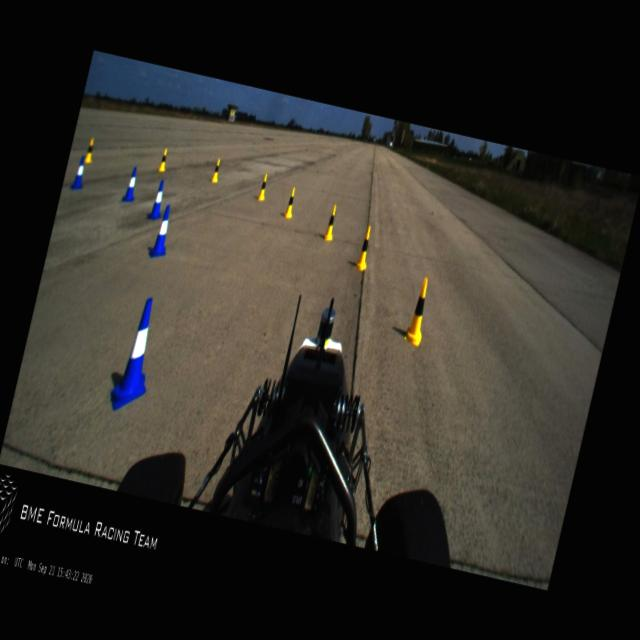blue_cone: (106, 294, 166, 416), (148, 202, 176, 260), (147, 180, 168, 222), (122, 166, 140, 204), (70, 155, 88, 191), (70, 154, 88, 190)
yellow_cone: (402, 276, 434, 346), (354, 225, 375, 271), (323, 202, 340, 240), (284, 186, 298, 218), (256, 173, 270, 201), (83, 138, 96, 164), (210, 158, 222, 183), (157, 148, 169, 172)
